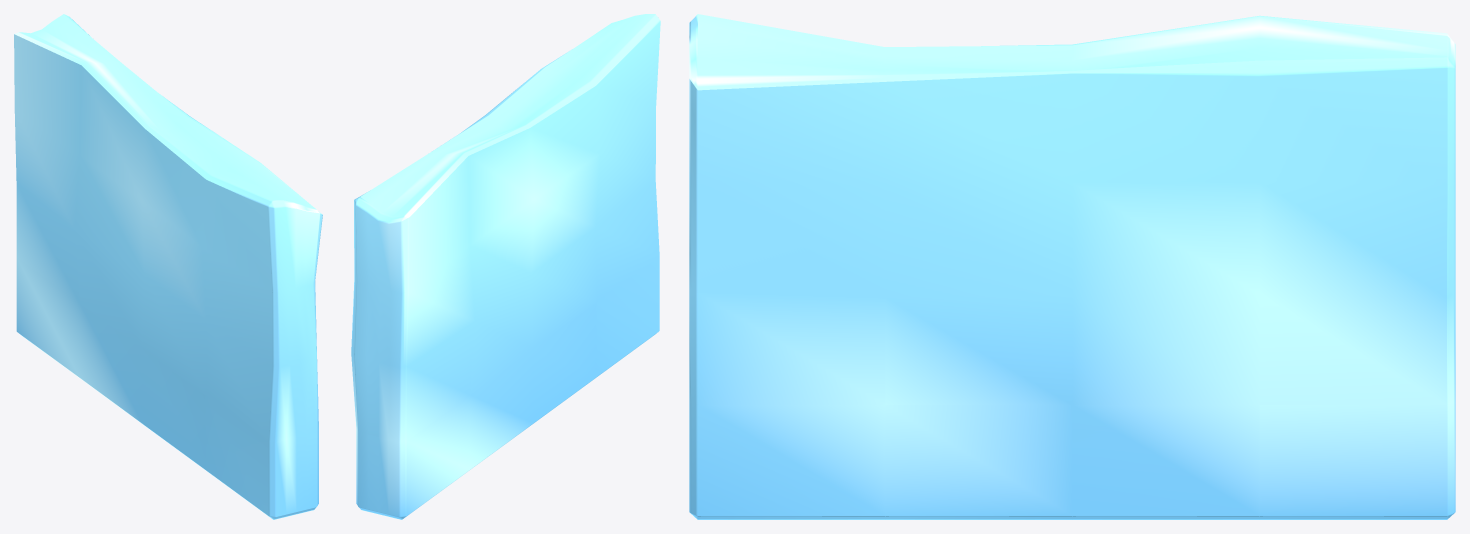
File: prop.glacier_seal.glb
The picture shows the model from 3 angles, left to right: view 1: azimuth 30°, elevation 25°; view 2: azimuth 150°, elevation 25°; view 3: azimuth 270°, elevation 25°; orthographic projection. The views are drawn at different scales.
Parts seen in each view (by area): view 1: glacier_seal; view 2: glacier_seal; view 3: glacier_seal.
Boxes of the visible parts, left/top/right/bottom form: glacier_seal: left=14, top=14, right=322, bottom=519; glacier_seal: left=351, top=14, right=660, bottom=519; glacier_seal: left=689, top=14, right=1455, bottom=519.
Bounding box in the file's own units: 1.44 × 7.26 × 10.6.
